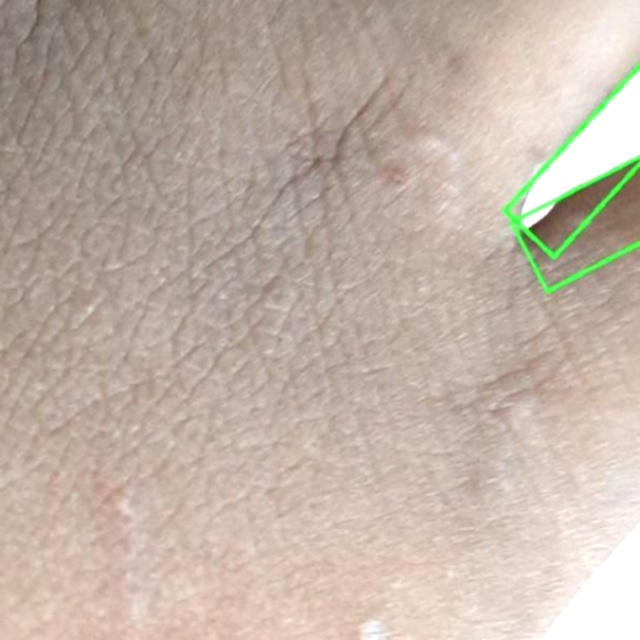Scabies: (497, 25, 639, 255), (503, 135, 639, 291)
